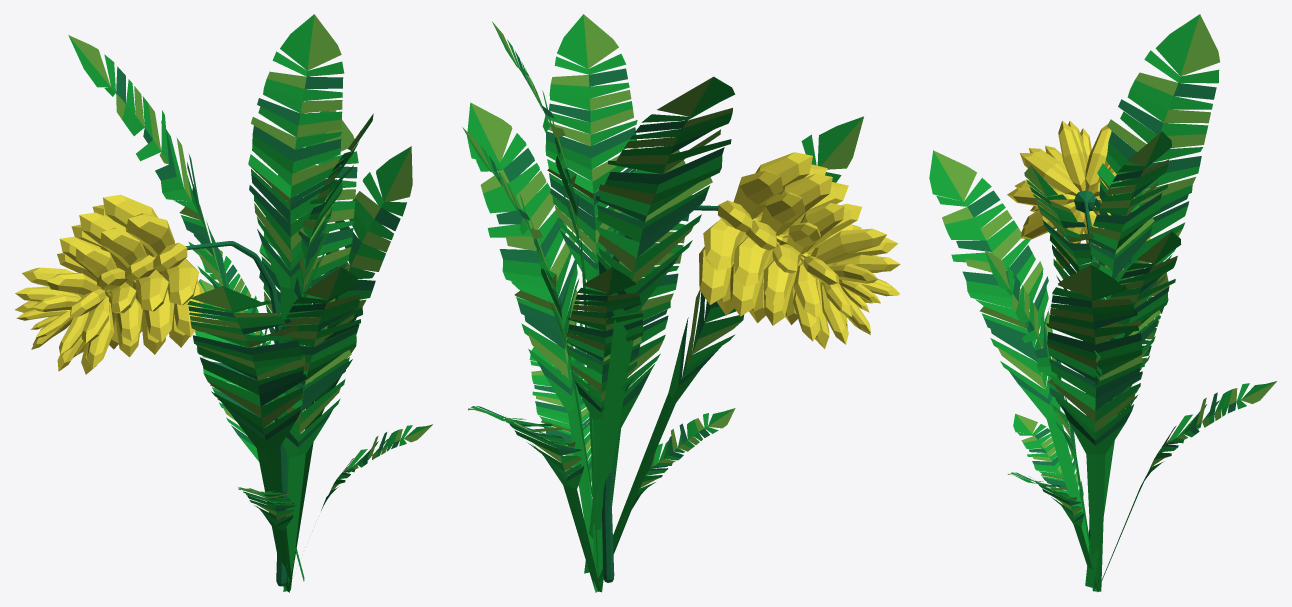
3 views of the same model, side by side, from view 1: azimuth 30°, elevation 25°; view 2: azimuth 150°, elevation 25°; view 3: azimuth 270°, elevation 25° (orthographic). The views are drawn at different scales.
Parts seen in each view (by area): view 1: baban_1; view 2: baban_1; view 3: baban_1.
Boxes of the visible parts, x1=… form: baban_1: x1=15, y1=14, x2=432, y2=592; baban_1: x1=462, y1=14, x2=900, y2=592; baban_1: x1=929, y1=14, x2=1276, y2=592.
Bounding box in the file's own units: 9.27 × 12.67 × 7.92.
